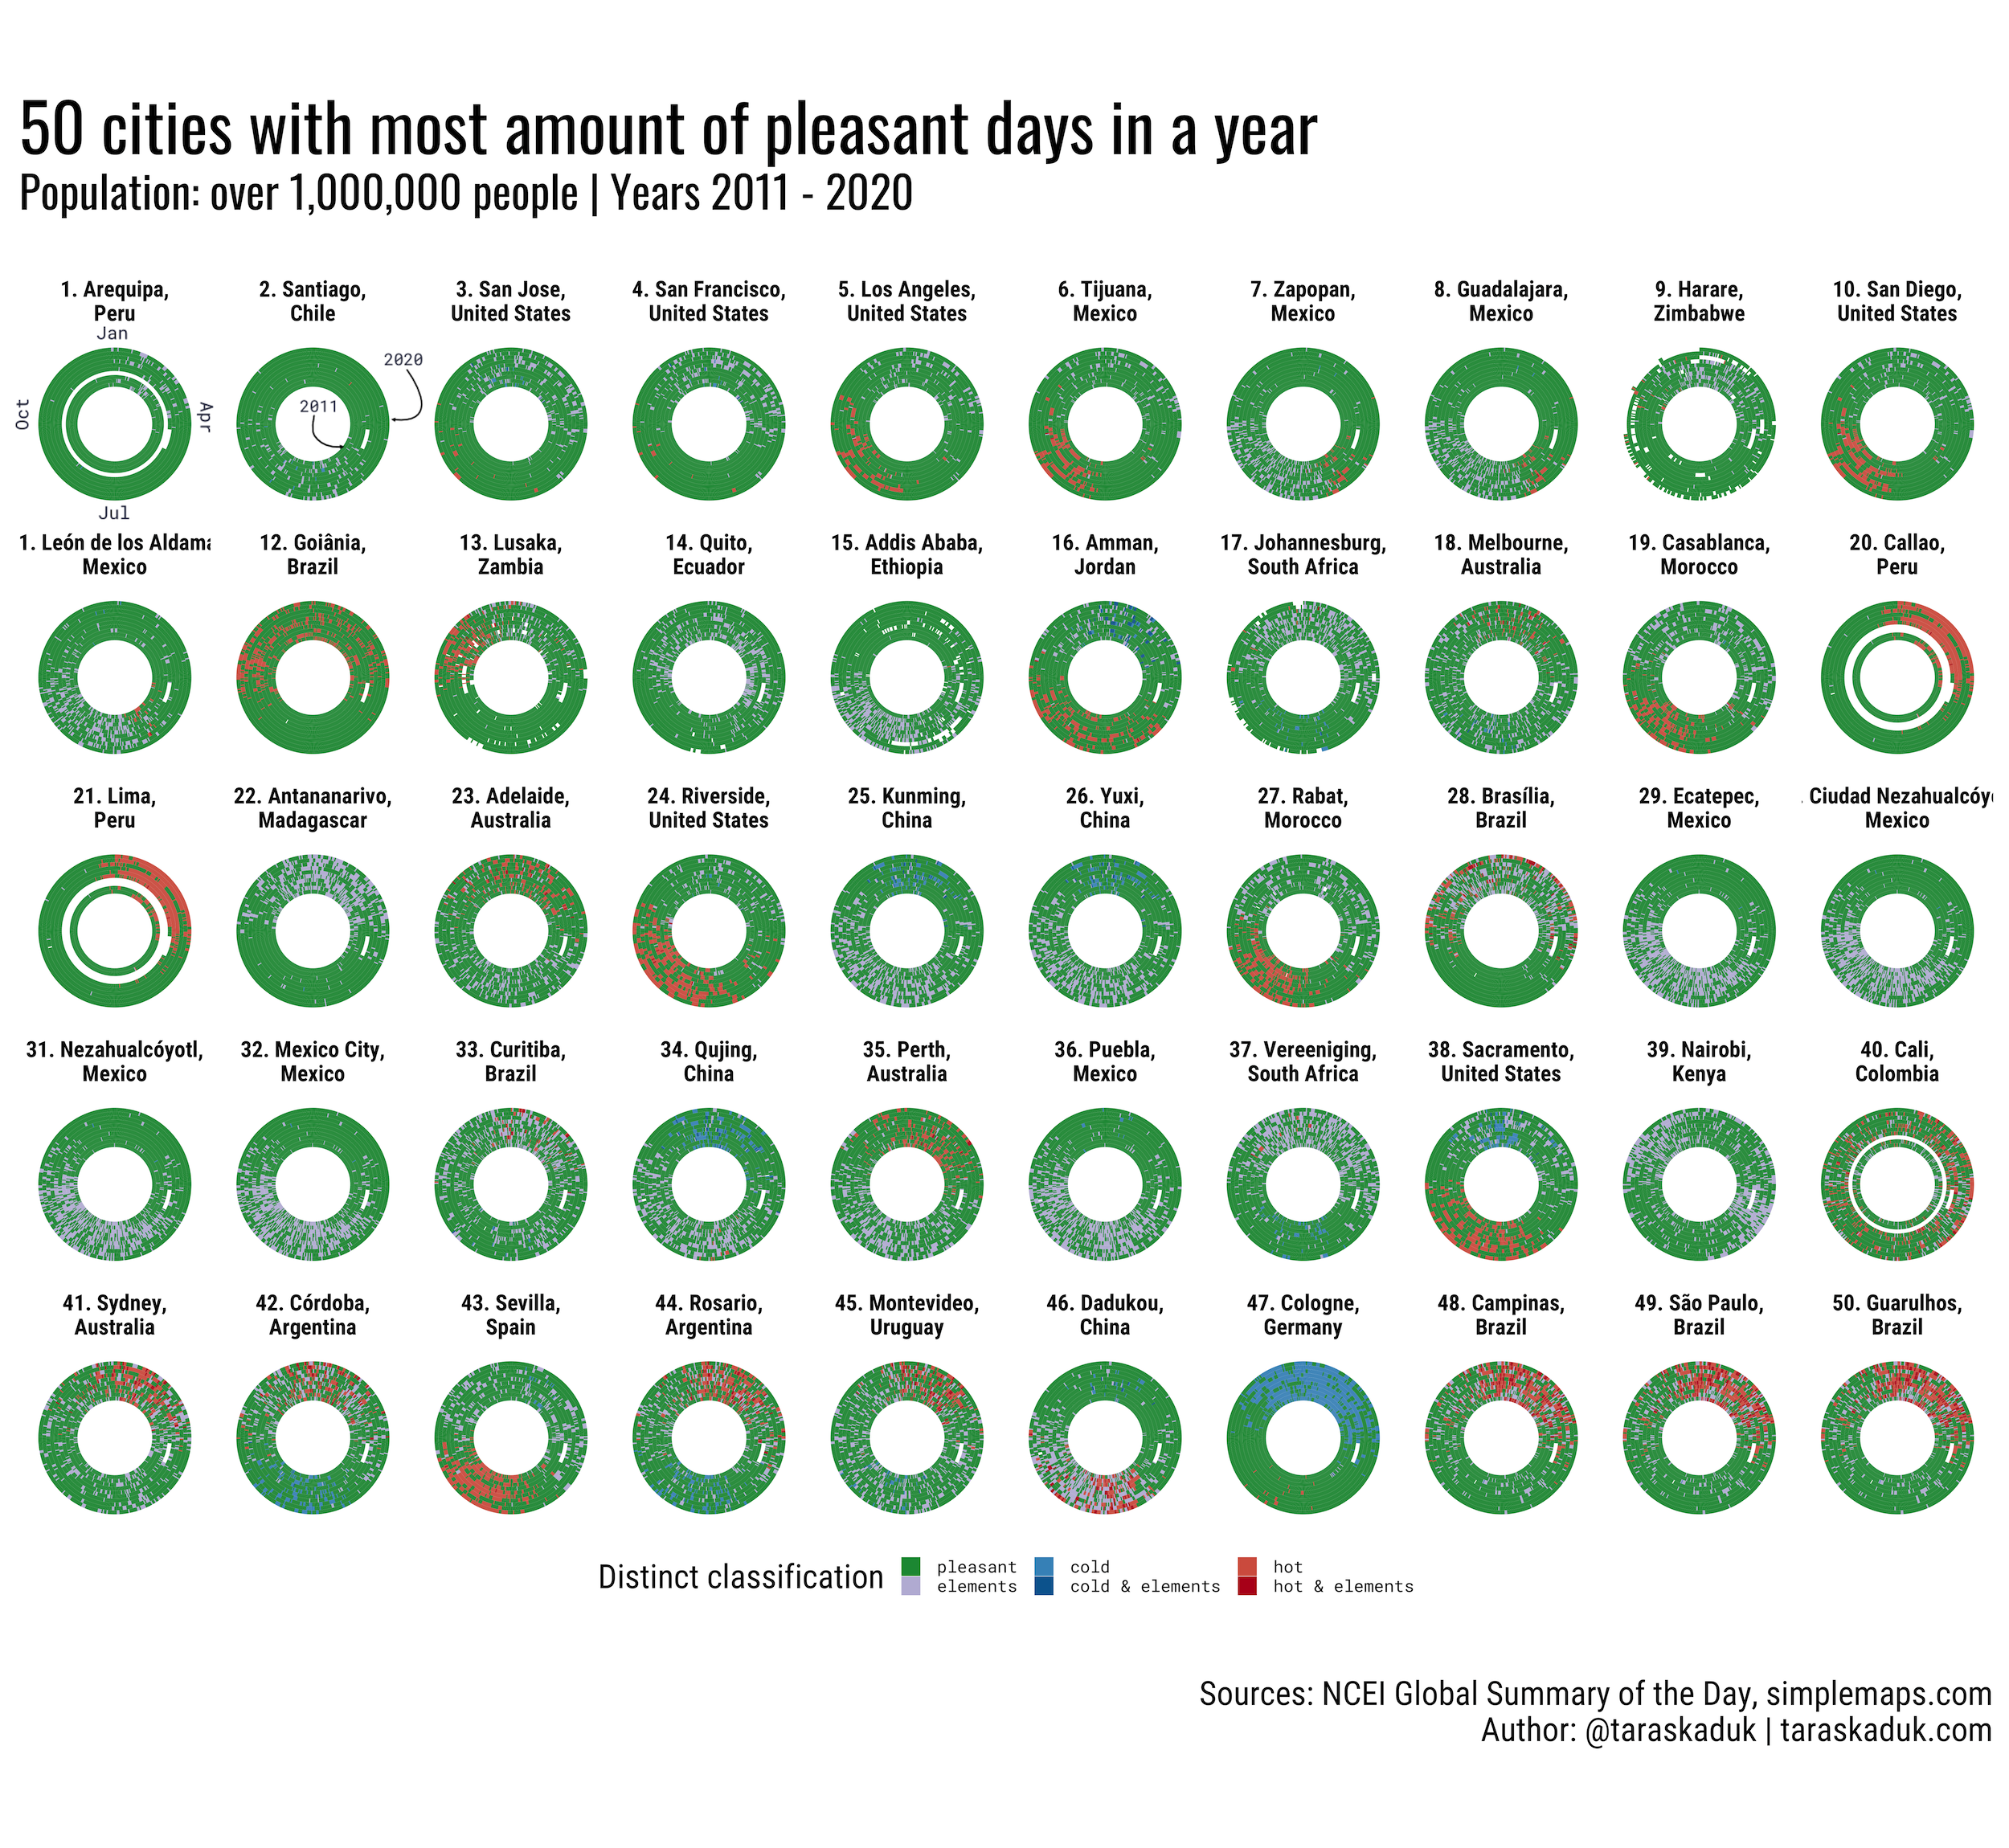

What the dashboard file says about the page in this screenshot:
{"tool":"tableau","page":{"name":"Radial Stack Bar Charts","canvas":[900,800],"ordinal":0},"visuals":[{"type":"worksheet","title":"radial stacked bar","mark":"Polygon","box":[0,0,796,800]},{"type":"legend","title":"radial stacked bar","param":"[federated.0d4brrl0id6ggj1ffol9q0xiccq4].[none:Calculation_4518799278402621453:n","box":[796,0,104,90]},{"type":"parameter","param":"[Parameters].[Parameter 4]","box":[796,90,104,52]},{"type":"parameter","param":"[Parameters].[Parameter 1]","box":[796,142,104,52]},{"type":"parameter","param":"[Parameters].[Parameter 2]","box":[796,194,104,52]},{"type":"parameter","param":"[Parameters].[Parameter 3]","box":[796,246,104,52]},{"type":"worksheet","title":"social","mark":"Shape","cols":["Platform"],"box":[840,770,60,30]}]}

Visuals, with their boxes on the page's 900x800 design canvas (x1, y1, x2, y2). These are canvas units, not pixel positions in the 2009x1848 screenshot, which may show the page scaled, cropped or inside an application window:
"radial stacked bar" worksheet (Polygon marks): <region>0, 0, 796, 800</region>
"radial stacked bar" legend: <region>796, 0, 900, 90</region>
parameter: <region>796, 90, 900, 142</region>
parameter: <region>796, 142, 900, 194</region>
parameter: <region>796, 194, 900, 246</region>
parameter: <region>796, 246, 900, 298</region>
"social" worksheet (Shape marks): <region>840, 770, 900, 800</region>
